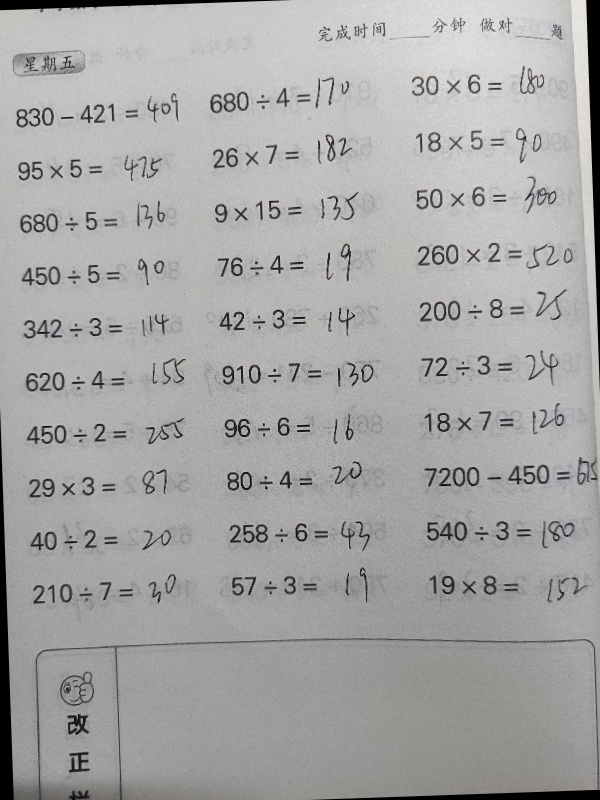equation: (410, 286, 590, 333), (202, 75, 381, 121), (221, 509, 401, 554), (418, 512, 598, 556), (417, 453, 597, 496), (409, 234, 589, 275), (407, 169, 567, 215), (407, 122, 574, 166), (22, 516, 202, 556), (203, 136, 383, 172), (421, 565, 600, 601), (222, 566, 402, 601), (219, 461, 399, 496), (21, 468, 201, 503), (417, 403, 597, 438), (18, 415, 198, 450), (17, 362, 197, 397), (214, 355, 394, 390), (414, 347, 594, 382), (15, 309, 195, 344), (211, 300, 391, 335), (11, 203, 191, 238), (7, 97, 187, 132), (24, 573, 203, 608), (403, 61, 554, 102), (216, 409, 396, 443), (209, 247, 389, 281), (205, 192, 385, 226), (9, 151, 189, 185), (14, 257, 193, 291)
